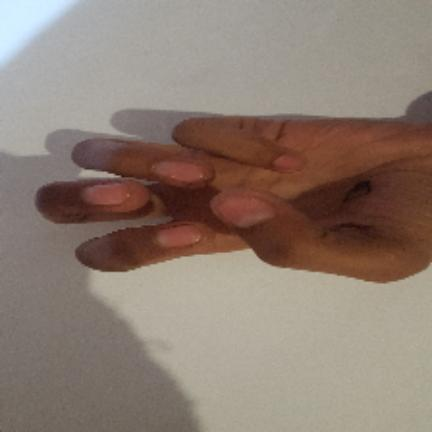Nail: (210, 188, 276, 228), (83, 183, 129, 205), (155, 162, 202, 183), (157, 226, 201, 247), (272, 154, 301, 171)
